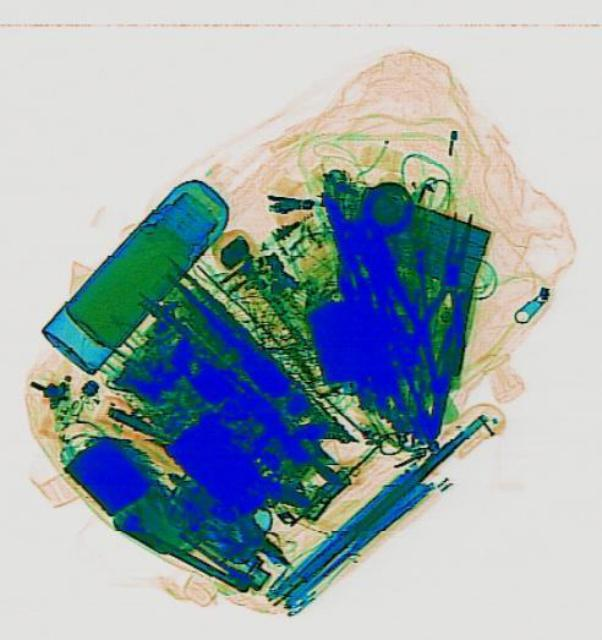Pliers: (404, 206, 489, 368)
